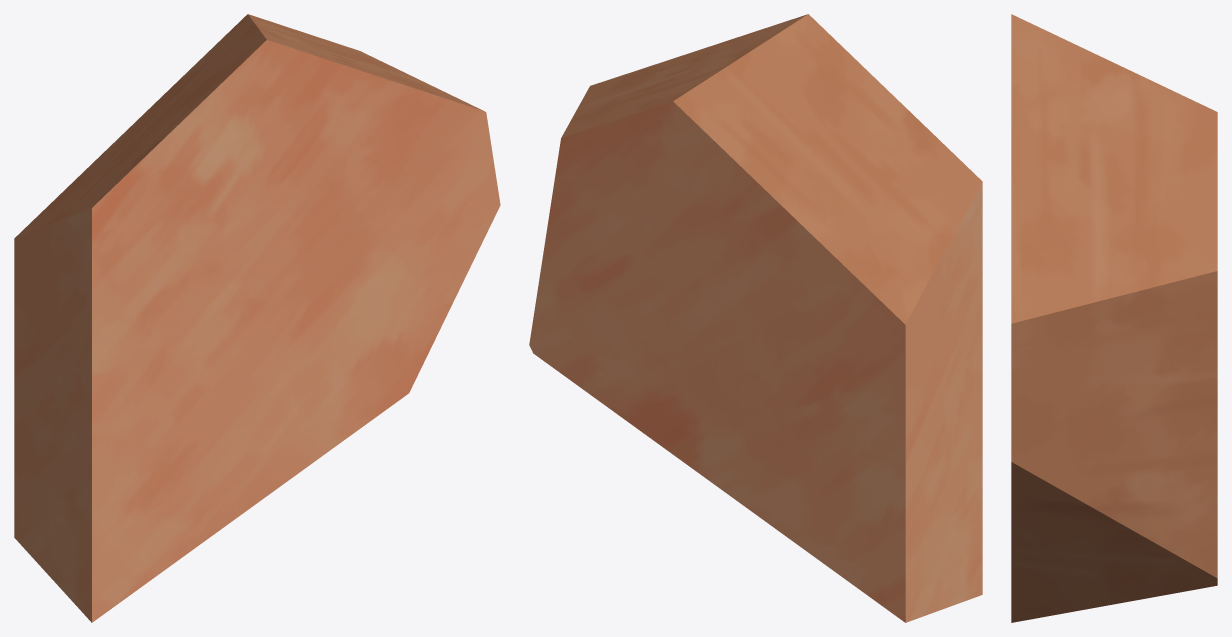
Rendered from wall_upper_s02.fbx.
The picture shows the model from 3 angles, left to right: view 1: azimuth 30°, elevation 25°; view 2: azimuth 150°, elevation 25°; view 3: azimuth 270°, elevation 25°; orthographic projection. The views are drawn at different scales.
Parts seen in each view (by area): view 1: wall_upper_s02; view 2: wall_upper_s02; view 3: wall_upper_s02.
Part boxes in pixels (x1,y1,x2,y2): wall_upper_s02: [14, 14, 500, 622]; wall_upper_s02: [529, 14, 982, 622]; wall_upper_s02: [1011, 14, 1217, 622].
Bounding box in the file's own units: 3.04 × 3.85 × 1.
